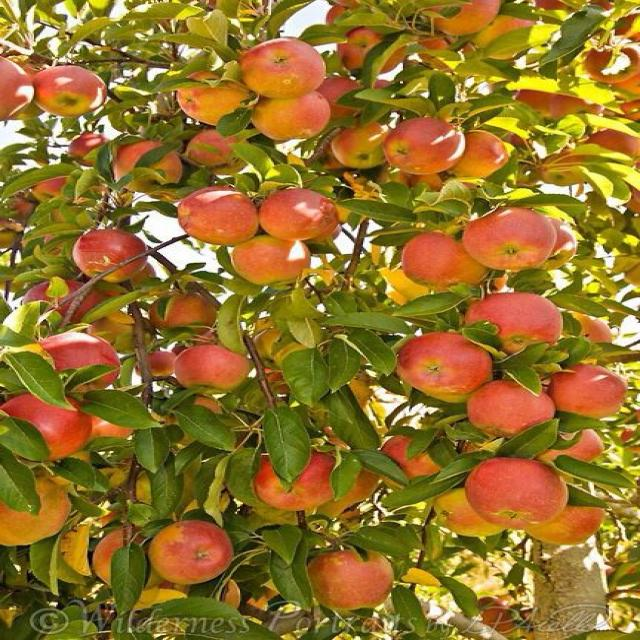Tao: (458, 291, 572, 363), (249, 443, 358, 517), (471, 457, 566, 531), (292, 548, 404, 608), (0, 386, 89, 461), (463, 206, 555, 278), (139, 525, 242, 589), (459, 365, 552, 434), (23, 328, 120, 393), (234, 80, 338, 140), (388, 238, 493, 297), (517, 493, 624, 549), (414, 485, 526, 538), (383, 332, 474, 396), (226, 236, 329, 291), (171, 192, 272, 244), (389, 112, 462, 182), (261, 187, 350, 244), (366, 435, 473, 482), (80, 527, 158, 591), (544, 351, 616, 419), (238, 43, 326, 98), (125, 284, 213, 336), (4, 466, 59, 548), (74, 404, 152, 456), (34, 277, 106, 333), (333, 31, 405, 86), (114, 144, 194, 193), (530, 428, 608, 477), (333, 122, 405, 174), (403, 0, 498, 39), (74, 231, 152, 278), (176, 351, 258, 395), (467, 12, 539, 61), (42, 68, 114, 117), (179, 70, 245, 122), (183, 126, 252, 173), (113, 336, 182, 381), (450, 128, 505, 183), (0, 55, 39, 126), (536, 218, 585, 271), (562, 307, 612, 353), (66, 136, 110, 166)
